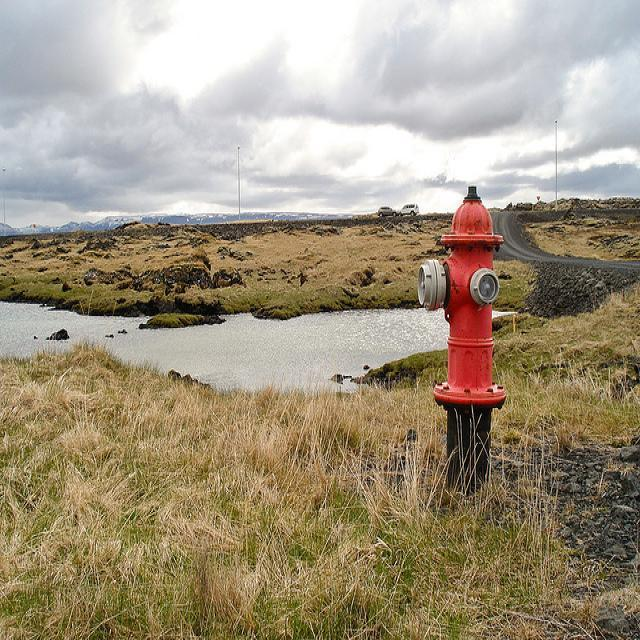fire_hydrant: (417, 184, 506, 492)
